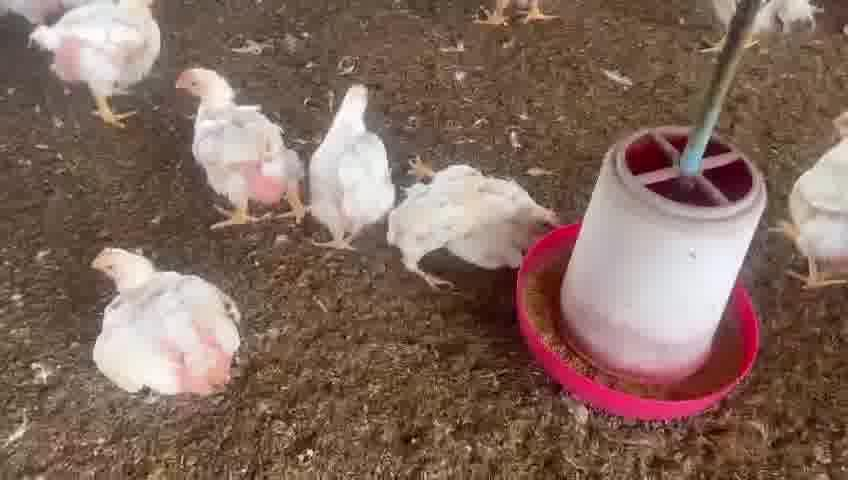AbNormal: (87, 246, 241, 396), (391, 160, 557, 293)
Normal: (176, 67, 309, 228), (29, 2, 164, 119), (312, 83, 390, 247), (778, 111, 848, 288)
